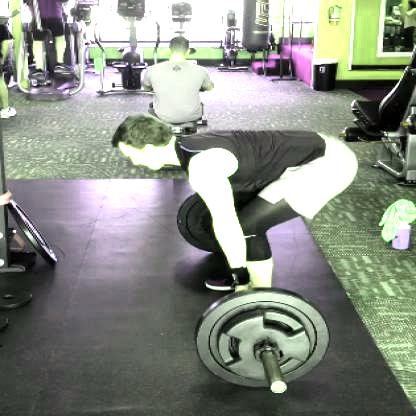Barbell: (268, 377, 290, 397)
